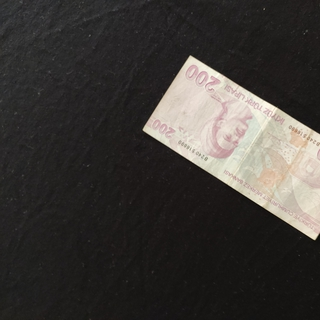200TLBack: (141, 54, 320, 241)
